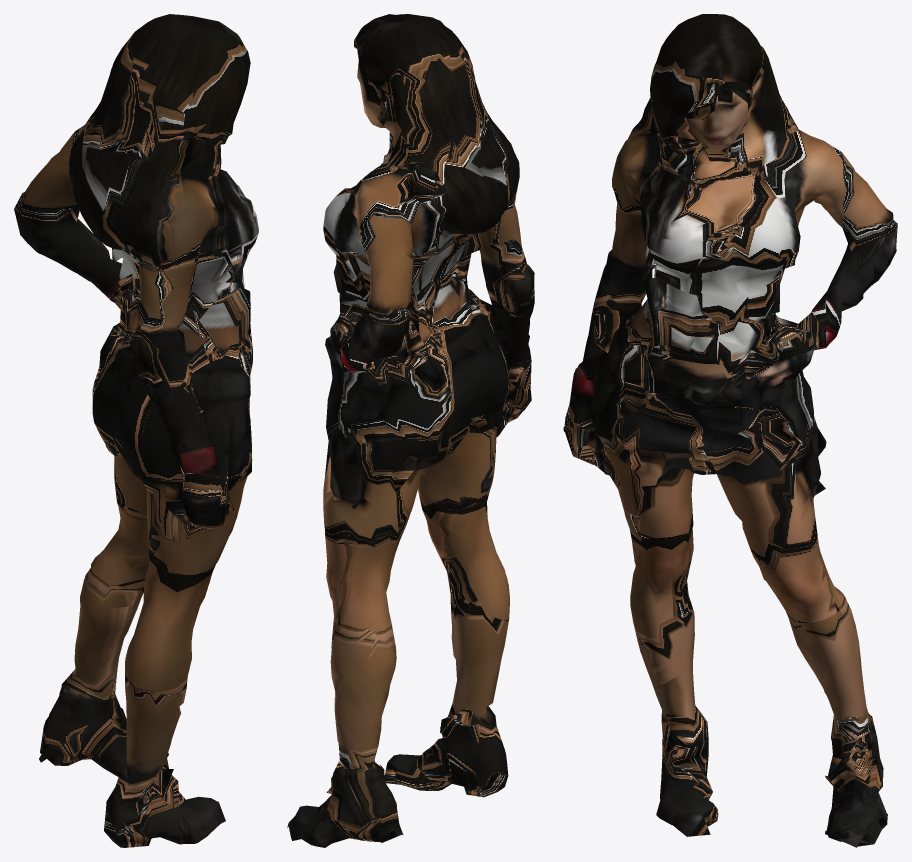
The model's file is tifa_vip.glb.
The picture shows the model from 3 angles, left to right: view 1: azimuth 30°, elevation 25°; view 2: azimuth 150°, elevation 25°; view 3: azimuth 270°, elevation 25°; orthographic projection. The views are drawn at different scales.
Parts seen in each view (by area): view 1: body; view 2: body; view 3: body.
Part boxes in pixels (left/top/right/bottom): body: left=14, top=14, right=258, bottom=847; body: left=287, top=14, right=534, bottom=847; body: left=563, top=14, right=897, bottom=847.
Bounding box in the file's own units: 0.3545 × 1.75 × 0.6587.
Materials: 1 (1 with a texture image).
